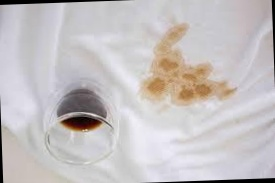coffee: (148, 66, 209, 99), (155, 43, 177, 65), (211, 83, 231, 96), (169, 26, 188, 39)
